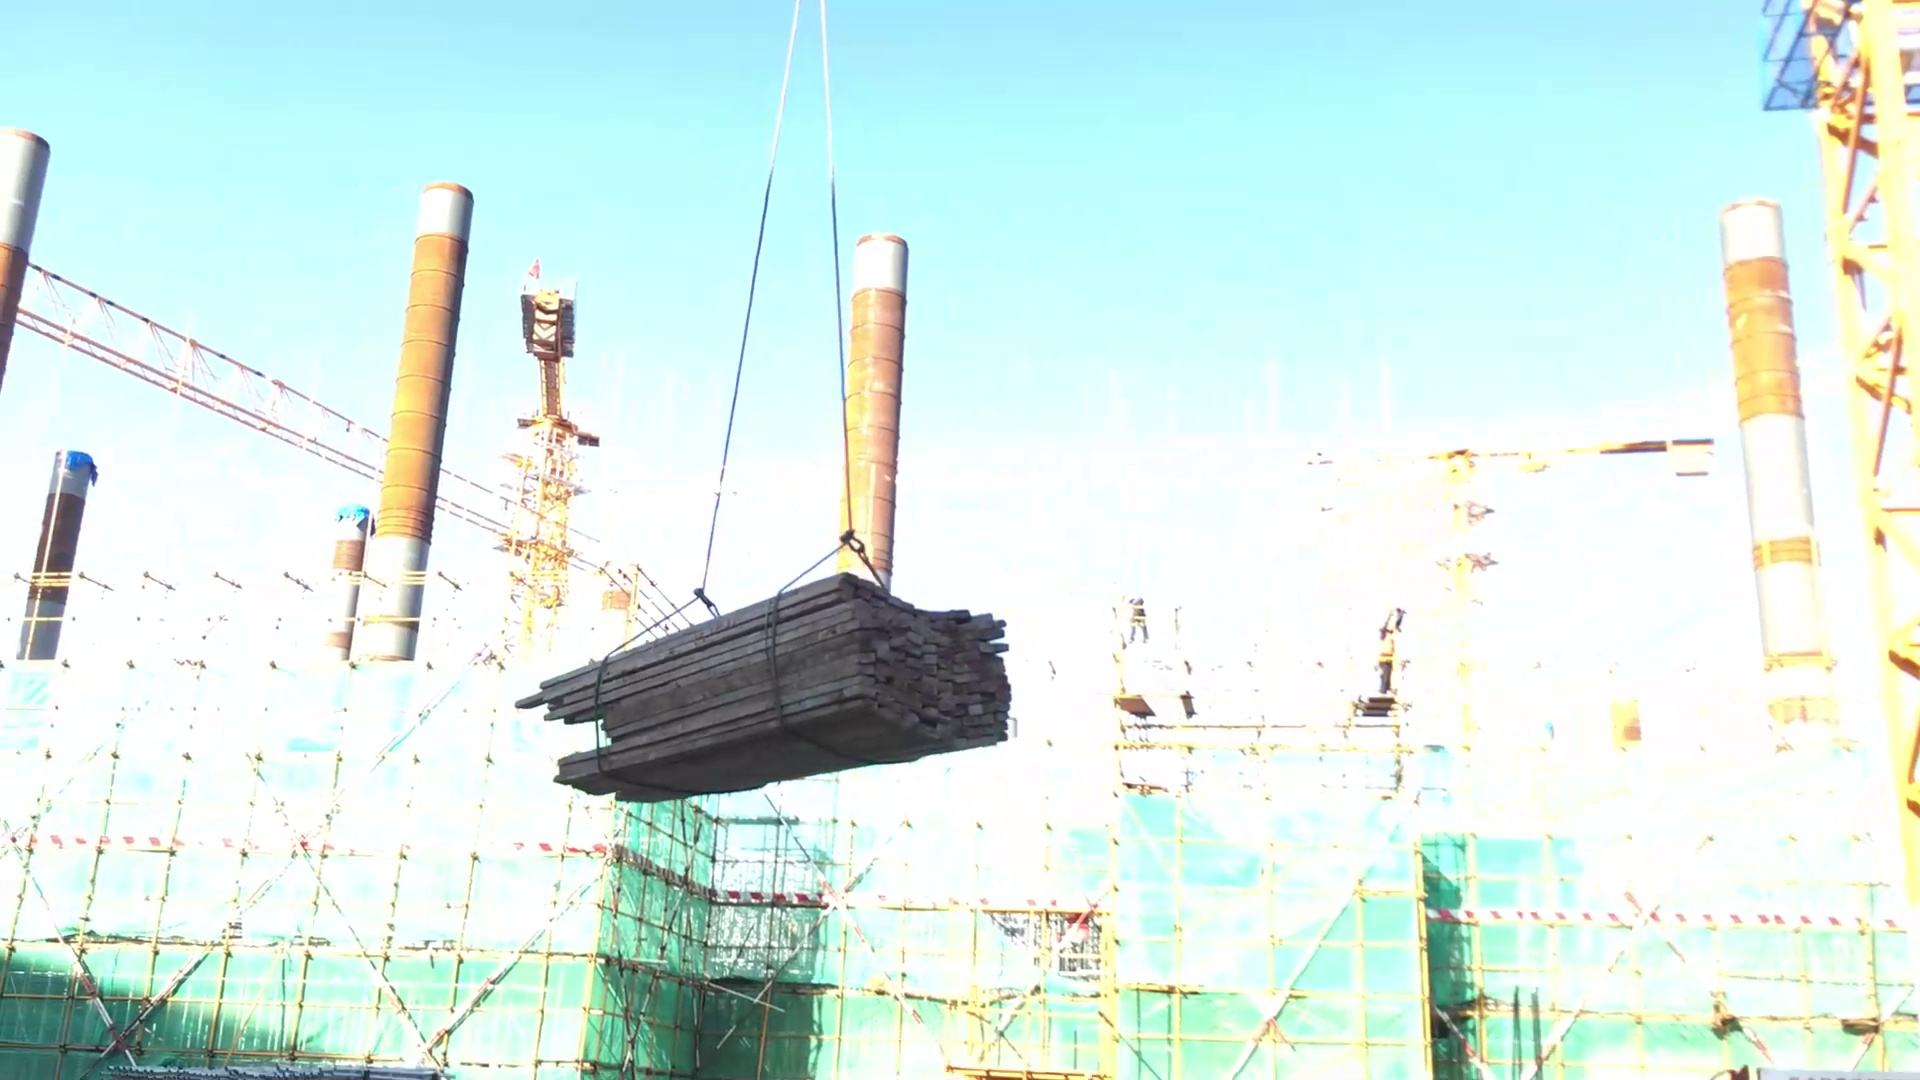wood: (508, 567, 1009, 802)
